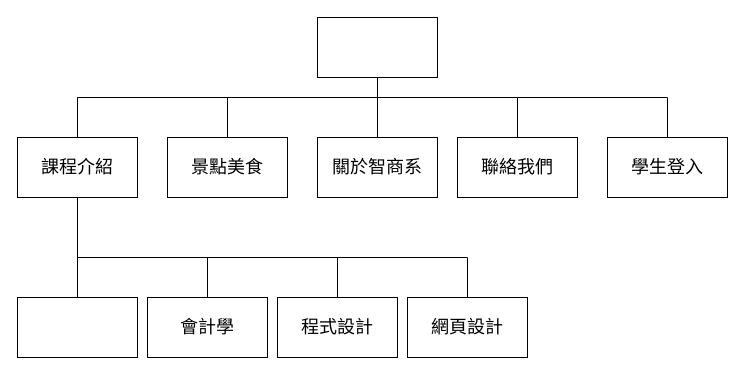
The diagram is 745 pixels wide and 375 high, and some of its shapes have lost their labels. Here are the shapes that lost their labels. From the top down, the centre of each, then its label:
At point 377,47: "網站首頁".
At point 77,327: "微積分".
